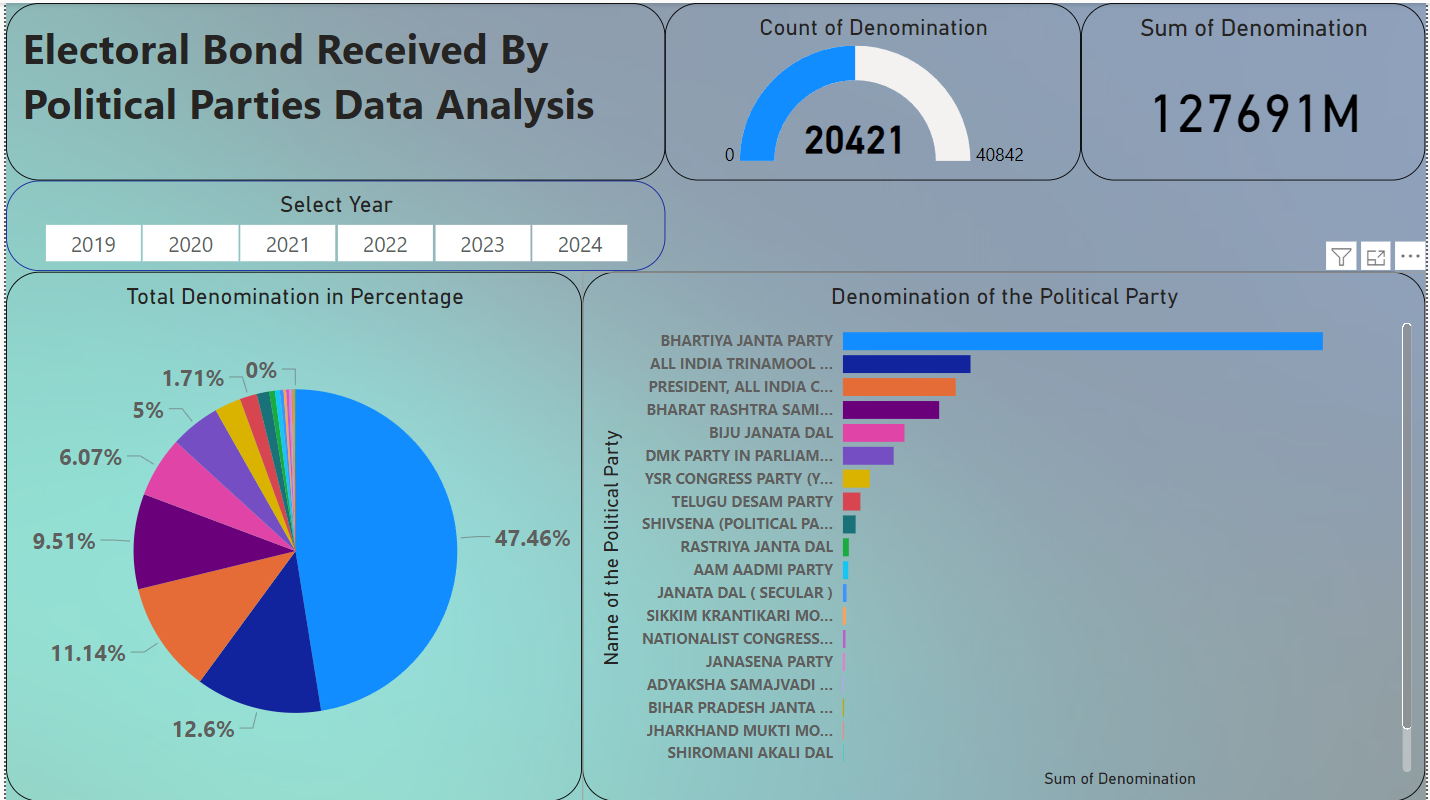

The dashboard page shown, as its layout file describes it:
{"tool":"powerbi","page":{"name":"Page 1","canvas":[1280,720],"ordinal":0},"visuals":[{"type":"card","title":"Sum of Denomination","fields":{"Values":["Sum(VrbYbsR3Sl (1).Denomination)"]},"box":[969.5,0,310.2,160.1],"z":0},{"type":"pieChart","title":"Total Denomination in Percentage","fields":{"Y":["Sum(VrbYbsR3Sl (1).Denomination)"],"Category":["VrbYbsR3Sl (1).Name of the Political Party"]},"box":[0,242,519.5,478],"z":1000},{"type":"gauge","fields":{"Y":["CountNonNull(VrbYbsR3Sl (1).Denomination)"]},"box":[594.1,0,375.3,160.1],"z":2000},{"type":"slicer","title":"Select Year","fields":{"Values":["VrbYbsR3Sl (1).Year"]},"box":[0,160.1,594.1,81.9],"z":3000},{"type":"textbox","box":[0,0,594.1,160.1],"z":4000},{"type":"barChart","title":"Denomination of the Political Party","fields":{"Category":["VrbYbsR3Sl (1).Name of the Political Party"],"Y":["Sum(VrbYbsR3Sl (1).Denomination)"],"Series":["VrbYbsR3Sl (1).Name of the Political Party"]},"box":[519.4,242.4,760.3,477.6],"z":5000}]}

Visuals, with their boxes in screenshot pixels (x1, y1, x2, y2), scaled from the page's 1280x720 canvas onto the 1430x800 screenshot:
"Sum of Denomination" card: x1=1083 y1=0 x2=1429 y2=178
"Total Denomination in Percentage" pieChart: x1=0 y1=269 x2=580 y2=799
gauge - CountNonNull(VrbYbsR3Sl (1).Denomination): x1=664 y1=0 x2=1083 y2=178
"Select Year" slicer: x1=0 y1=178 x2=664 y2=269
textbox: x1=0 y1=0 x2=664 y2=178
"Denomination of the Political Party" barChart: x1=580 y1=269 x2=1429 y2=799
